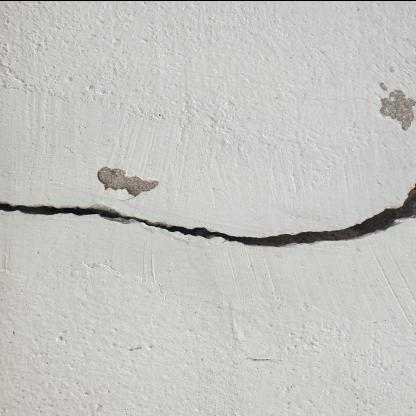crack: (0, 181, 416, 246)
